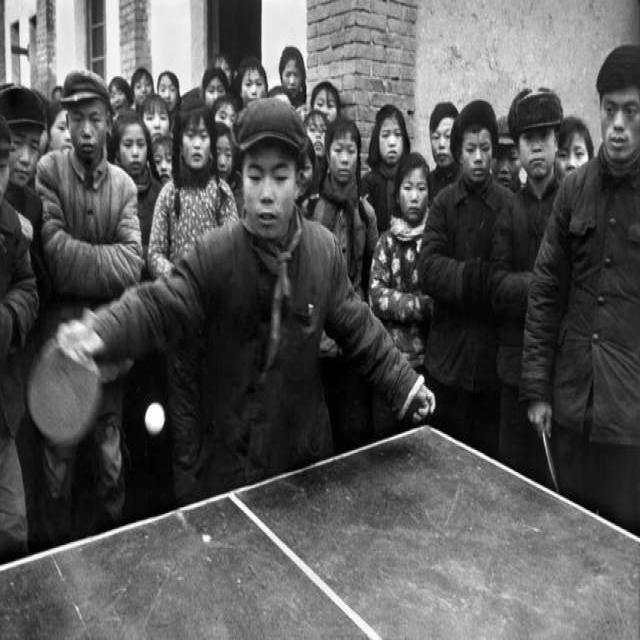ping-pong-ball: (141, 398, 166, 438)
